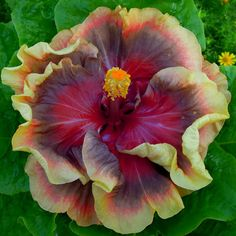Hibiscus: (8, 3, 224, 236)
